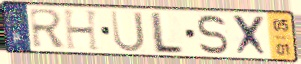H: (62, 8, 102, 53)
L: (150, 11, 185, 56)
R: (27, 7, 69, 50)
S: (196, 13, 231, 56)
U: (109, 9, 147, 54)
X: (231, 13, 271, 59)
